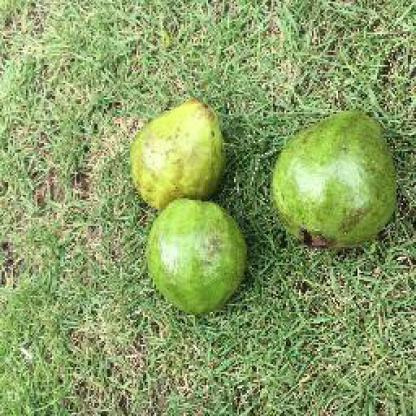guava: (272, 107, 402, 248), (146, 200, 248, 314), (128, 96, 224, 205)
